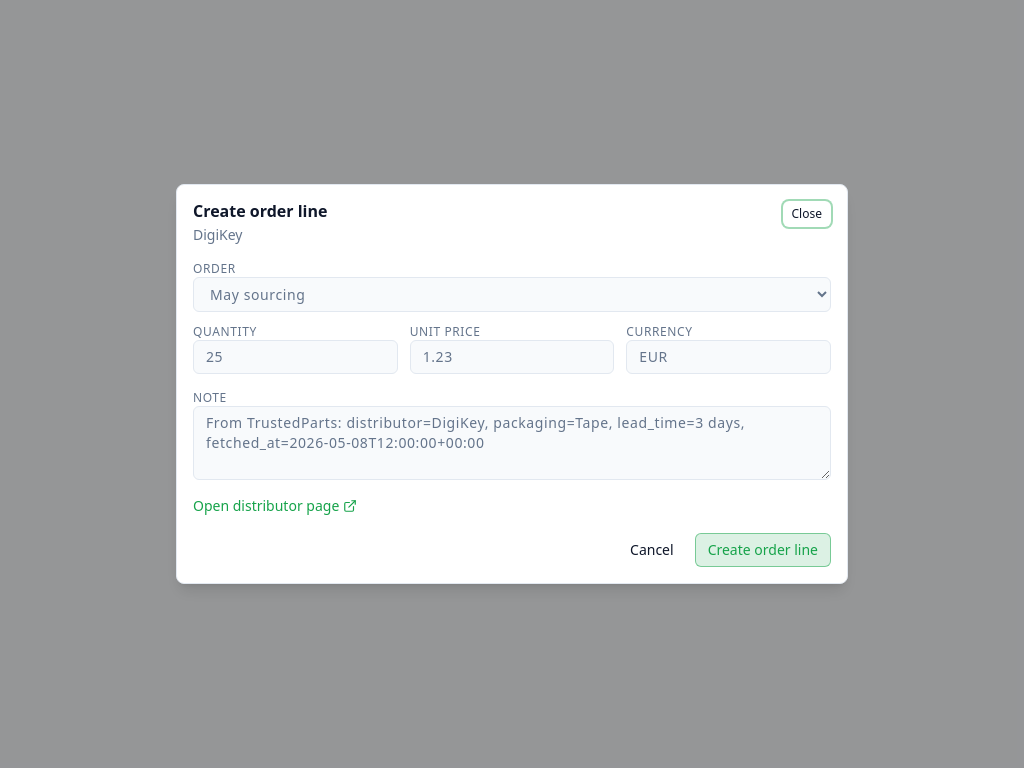
Test: CreateOrderLineModal › error path renders form-level error message
Click the button "Create order line": x=763, y=550 [695, 533, 831, 567]
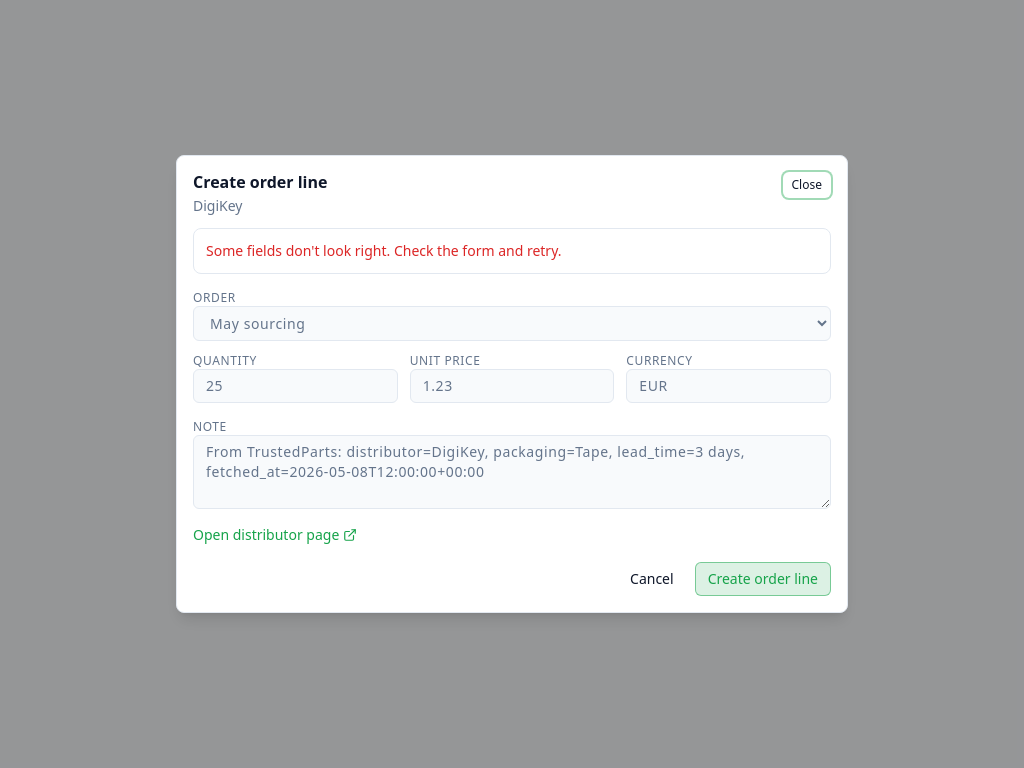
Now the message reads "Some fields don't look right. Check the form and retry.", box [206, 241, 562, 260]
